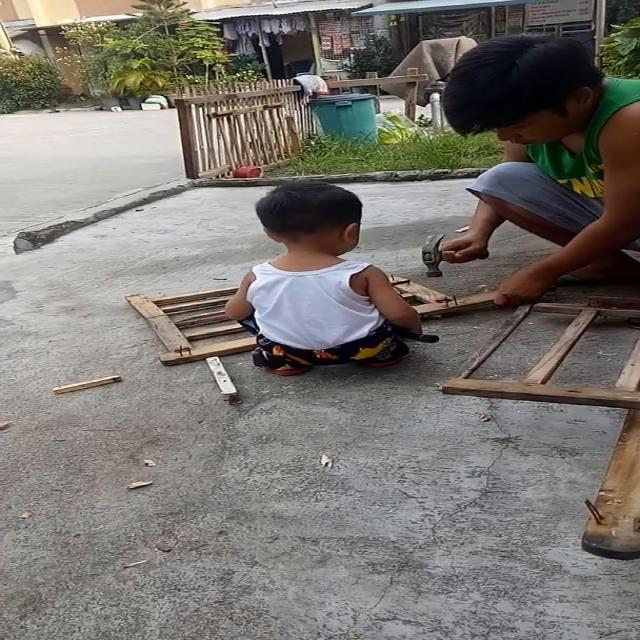hammer: (422, 234, 490, 278)
